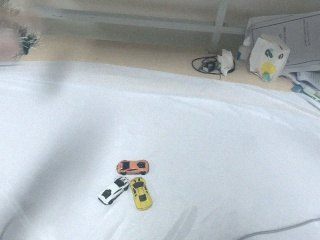toy_car: (97, 175, 130, 208), (131, 175, 153, 213), (116, 160, 149, 175)
